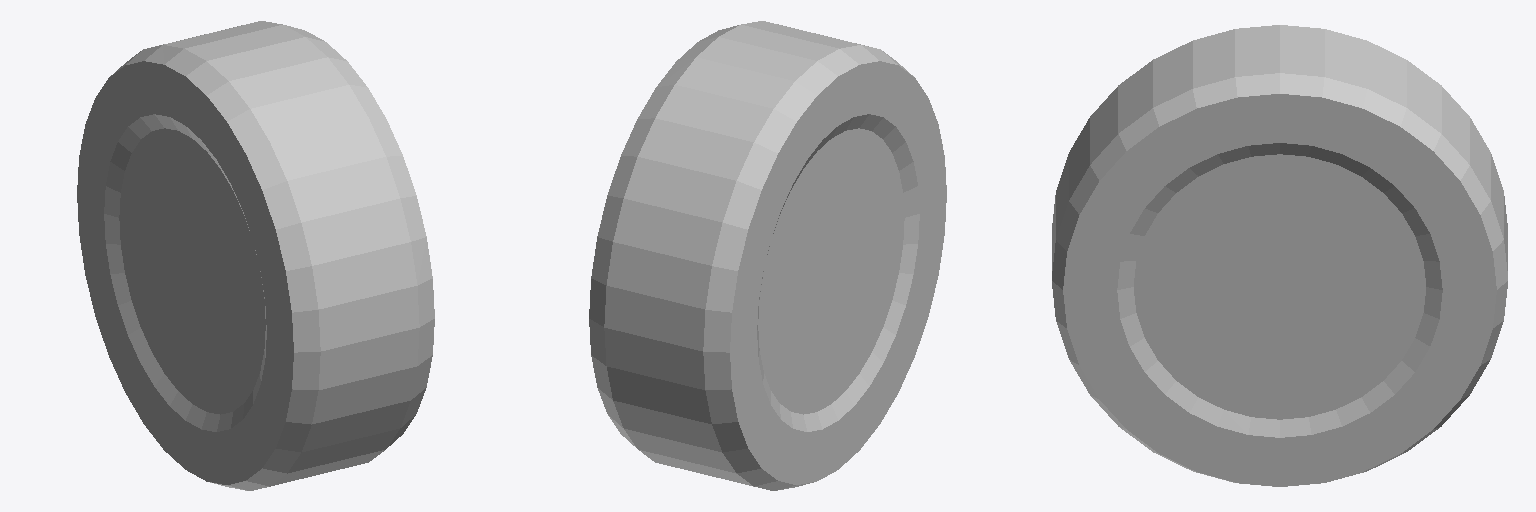
Rendered from LlantaNueva.obj.
The picture shows the model from 3 angles: view 1: azimuth 30°, elevation 25°; view 2: azimuth 150°, elevation 25°; view 3: azimuth 270°, elevation 25°; orthographic projection.
Parts seen in each view (by area): view 1: Llanta1; view 2: Llanta1; view 3: Llanta1.
Boxes of the visible parts, x1,y1,x2,y2 form: Llanta1: [77, 21, 434, 490]; Llanta1: [589, 21, 946, 490]; Llanta1: [1052, 25, 1507, 486].
Bounding box in the file's own units: 0.285 × 0.8 × 0.8.